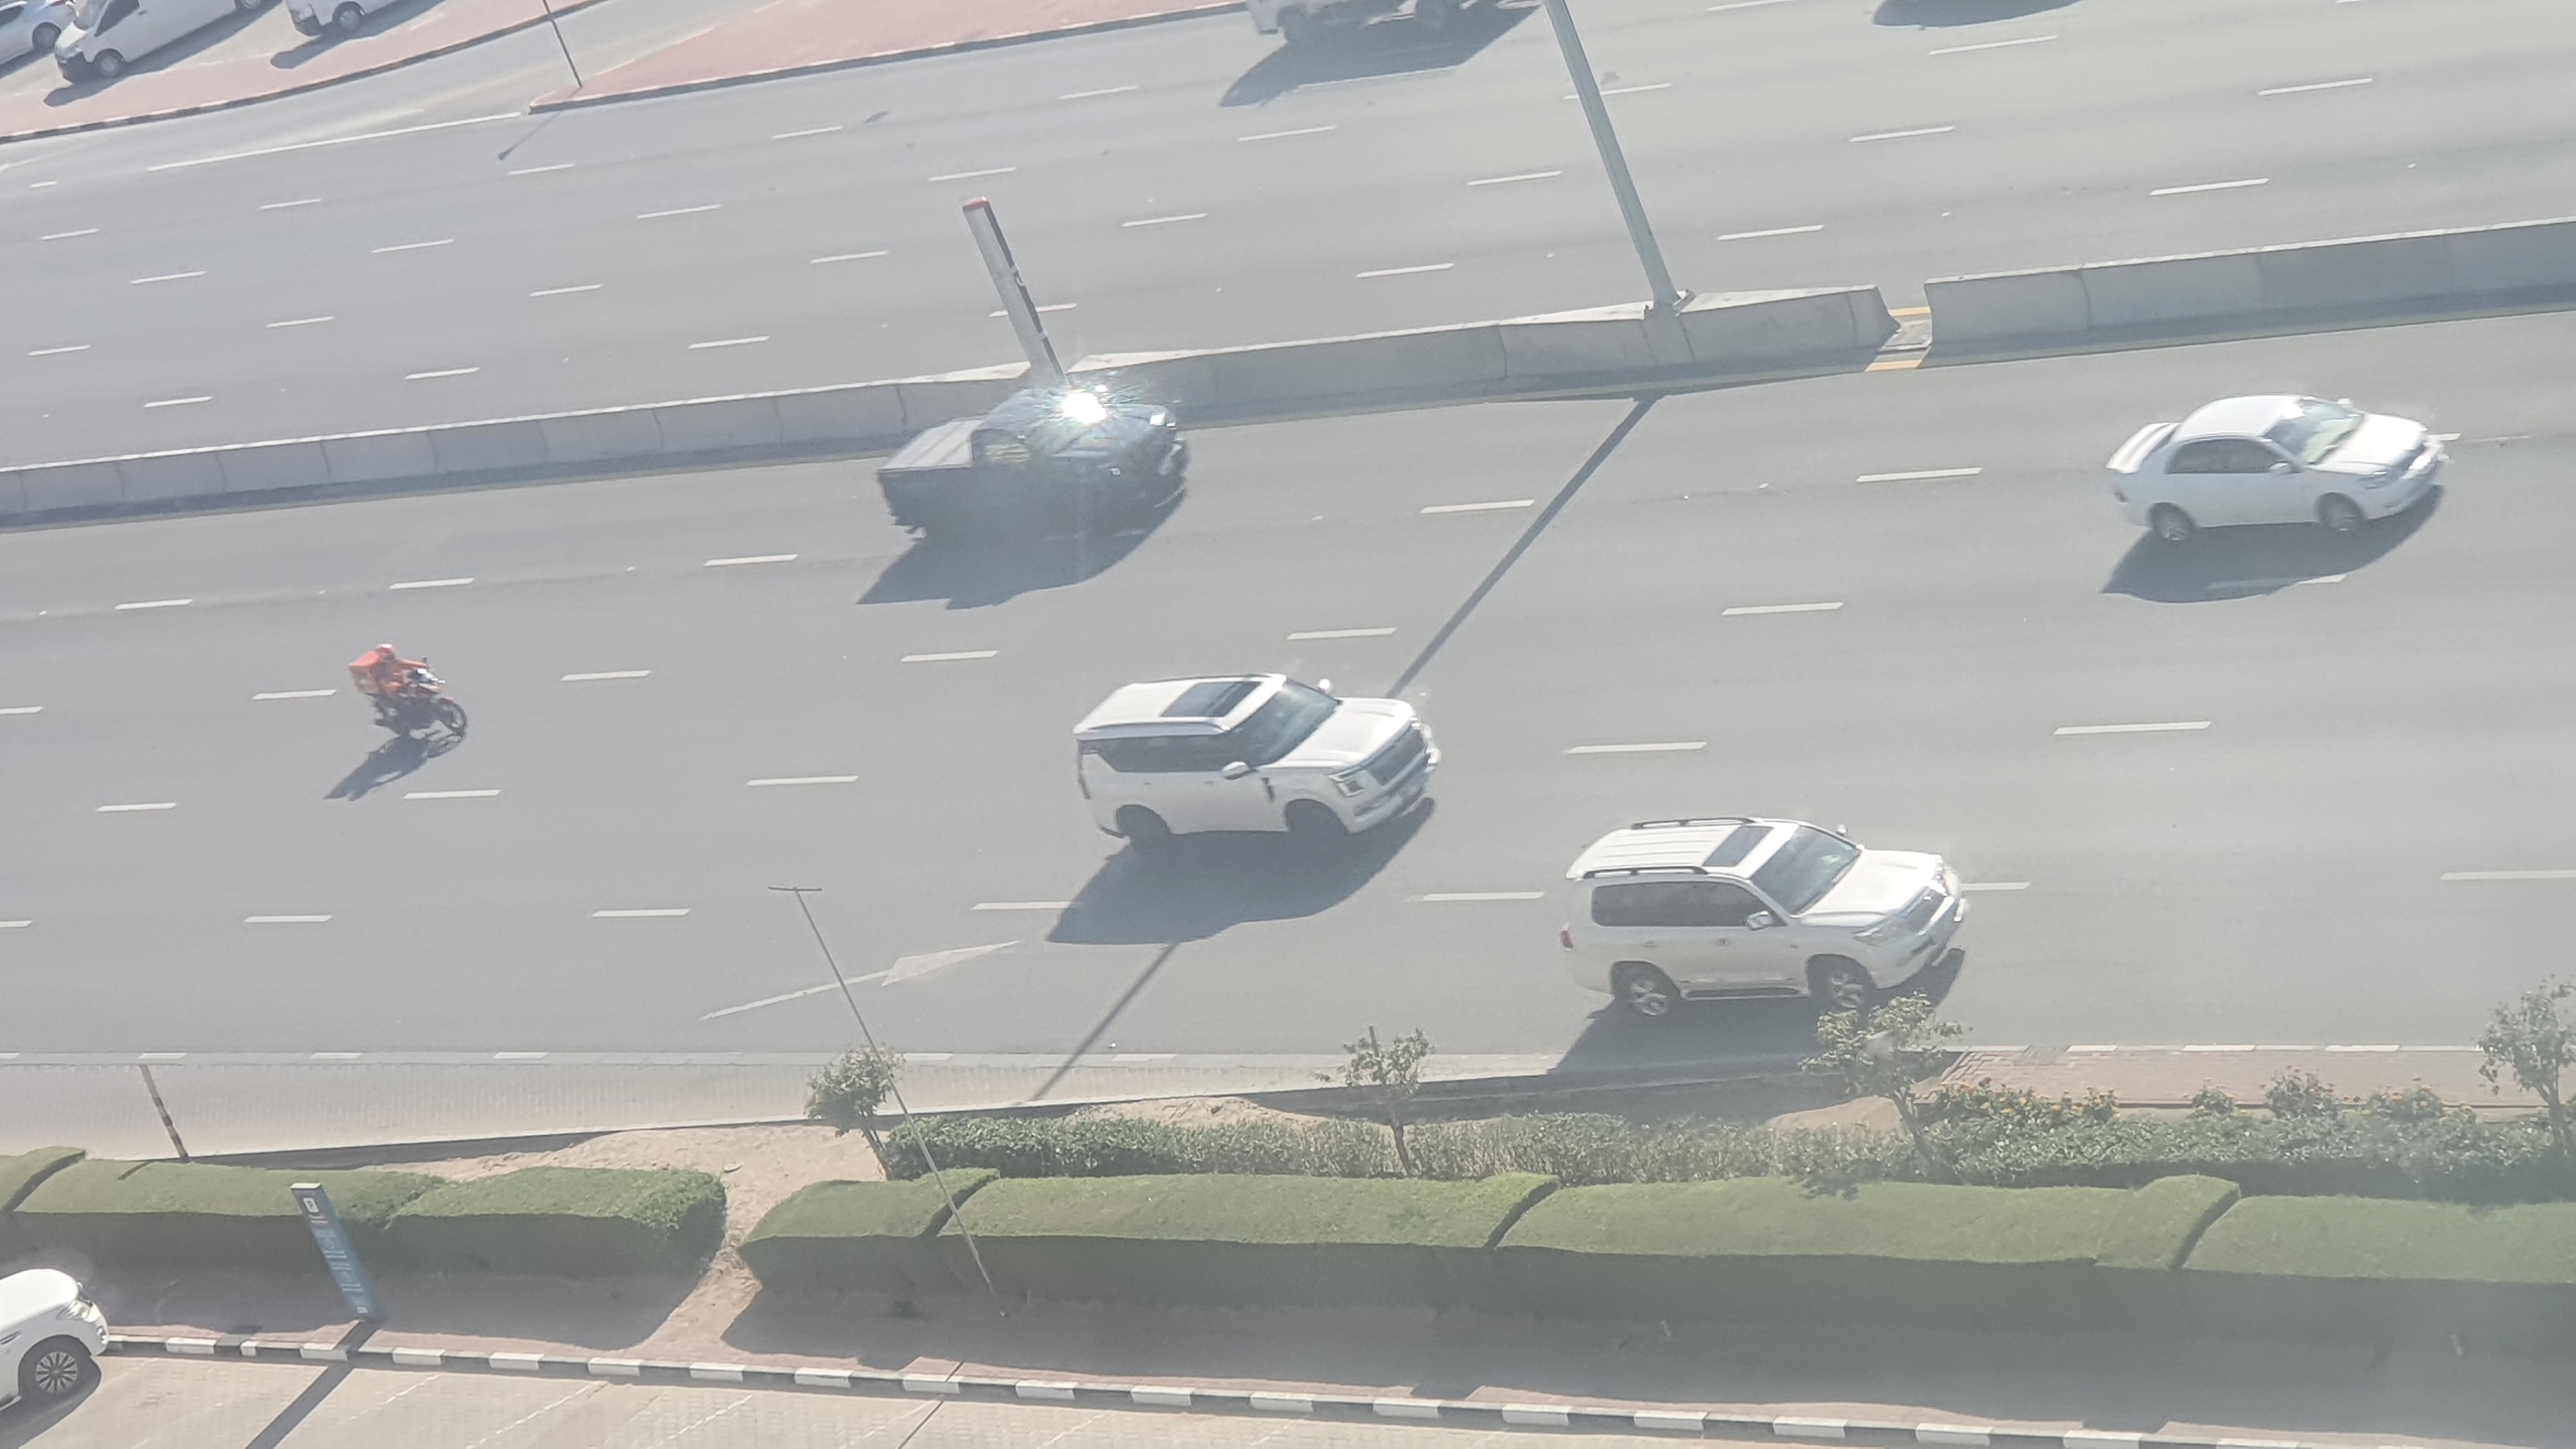NotSunroof: (872, 380, 1194, 552), (2114, 387, 2449, 552)
Sunroof: (1566, 810, 1967, 1023), (1074, 679, 1438, 862)
